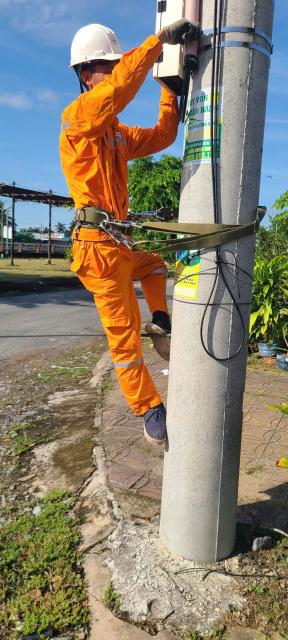gloves: (159, 18, 215, 48)
harness: (71, 191, 180, 258)
helmet: (60, 6, 135, 73)
shoes: (134, 397, 176, 461), (144, 311, 183, 368)
